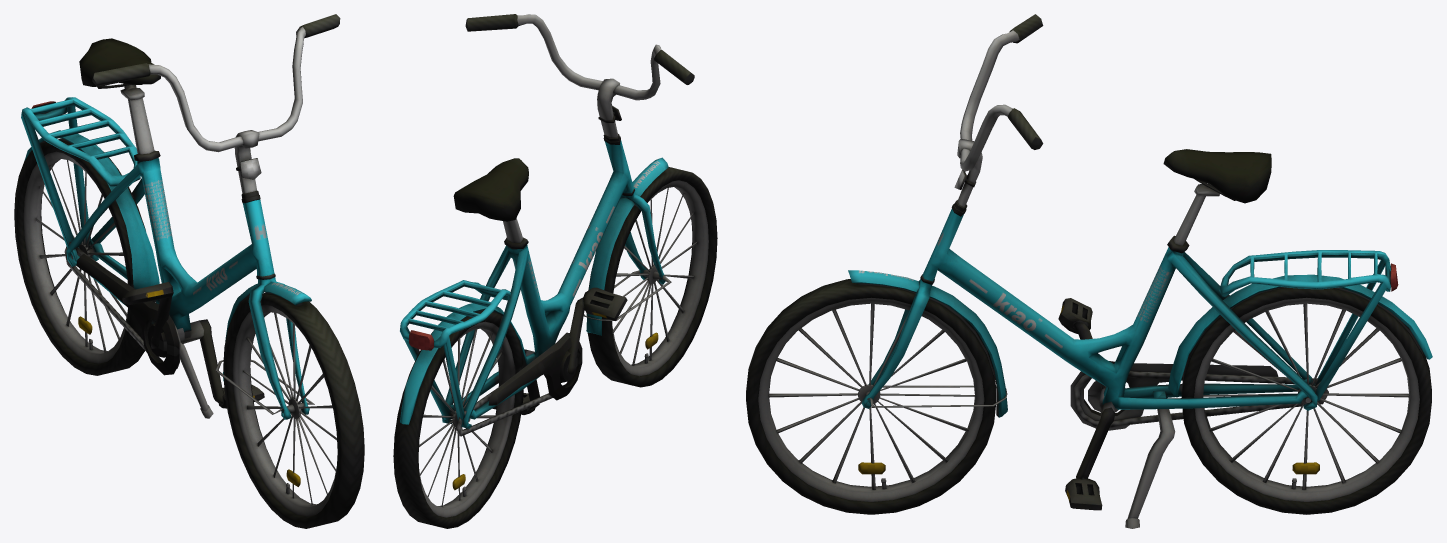
The model's file is SM_Jopo.FBX.
The picture shows the model from 3 angles, left to right: view 1: azimuth 30°, elevation 25°; view 2: azimuth 150°, elevation 25°; view 3: azimuth 270°, elevation 25°; orthographic projection. The views are drawn at different scales.
Visible parts, largest first — view 1: SM_Jopo; view 2: SM_Jopo; view 3: SM_Jopo.
Part boxes in pixels (x1=…): SM_Jopo: x1=14, y1=14, x2=364, y2=528; SM_Jopo: x1=393, y1=14, x2=717, y2=528; SM_Jopo: x1=746, y1=14, x2=1432, y2=528.
Size of the model in its own units: 71.2 by 165 by 117.
